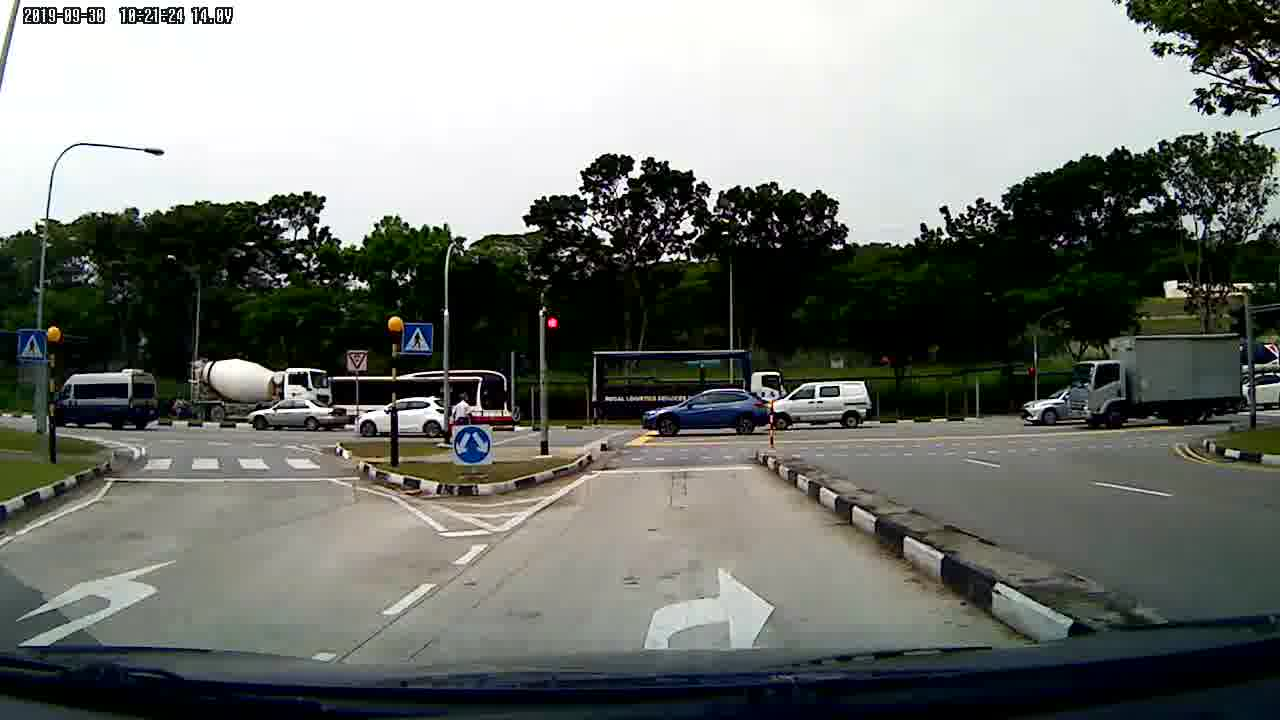bus: (324, 368, 520, 429)
car: (640, 386, 770, 442), (350, 395, 456, 443), (246, 398, 348, 433)
